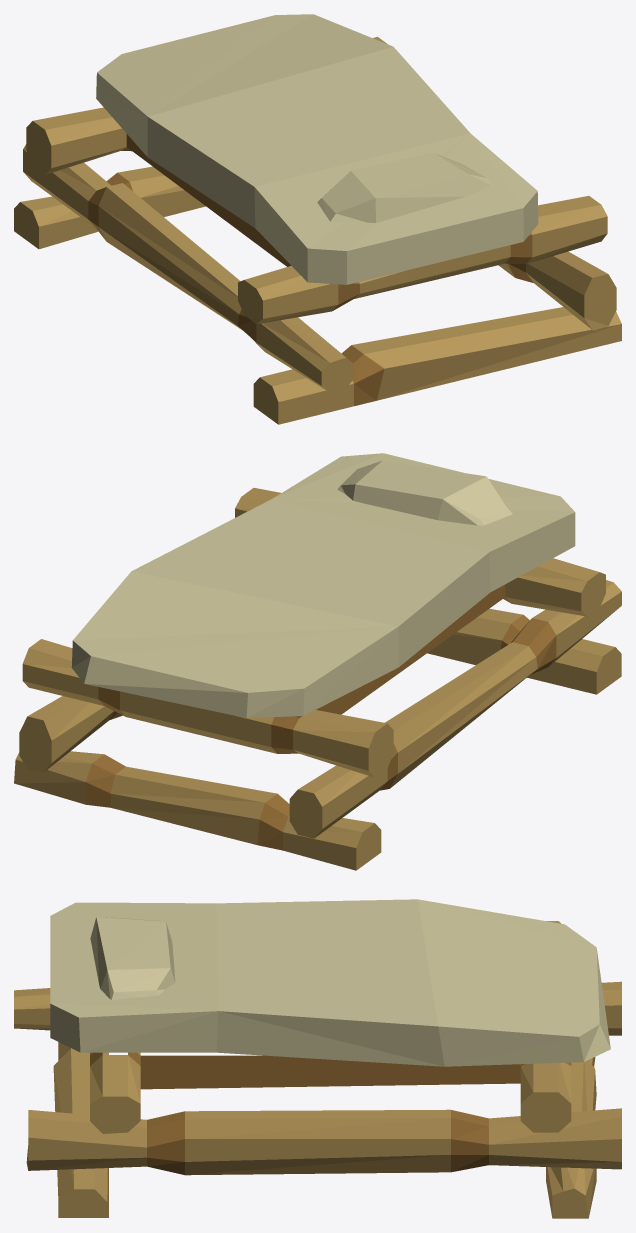
The model's file is obj_bed_15_0.obj.
The picture shows the model from 3 angles, top to bottom: view 1: azimuth 30°, elevation 25°; view 2: azimuth 150°, elevation 25°; view 3: azimuth 270°, elevation 25°; orthographic projection.
Size of the model in its own units: 2 by 1.02 by 3.
